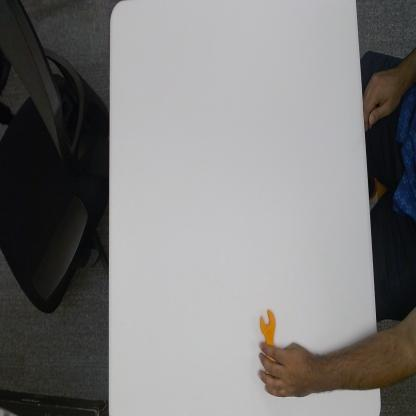Arm: (323, 327, 416, 389)
Hand: (255, 339, 320, 406)
Screwdriver: (252, 306, 284, 347)
